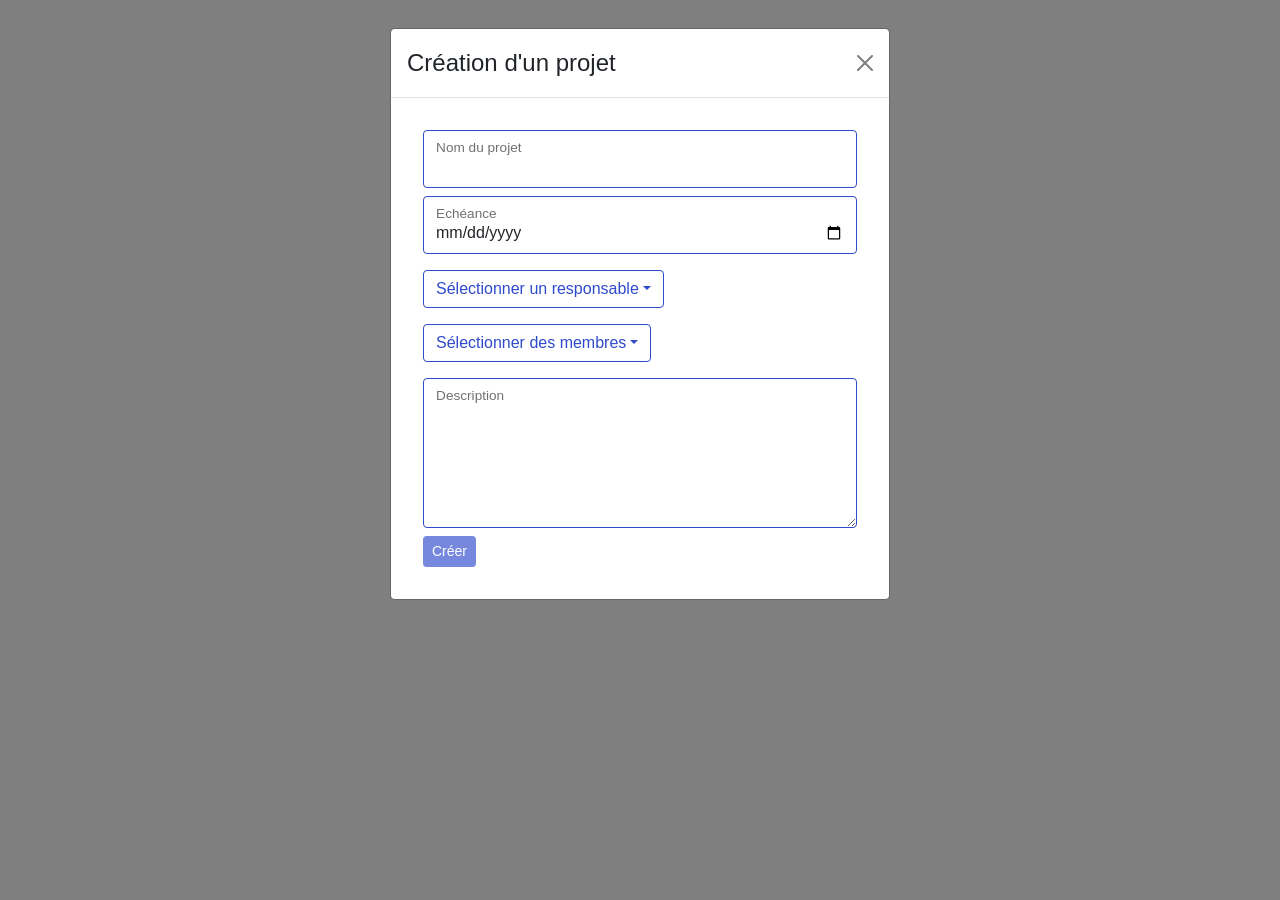
Test case: CreateProjectForm layout › should not be possible to submit if the name is not filled
The width and height of the screenshot is (1280, 900).
Check: the button with test id "createProjectForm-create-button" is disabled, box [423,536,476,567]
Type "New project" into the field with test id "createProjectForm-name" at (640, 159), box [423,130,857,188]
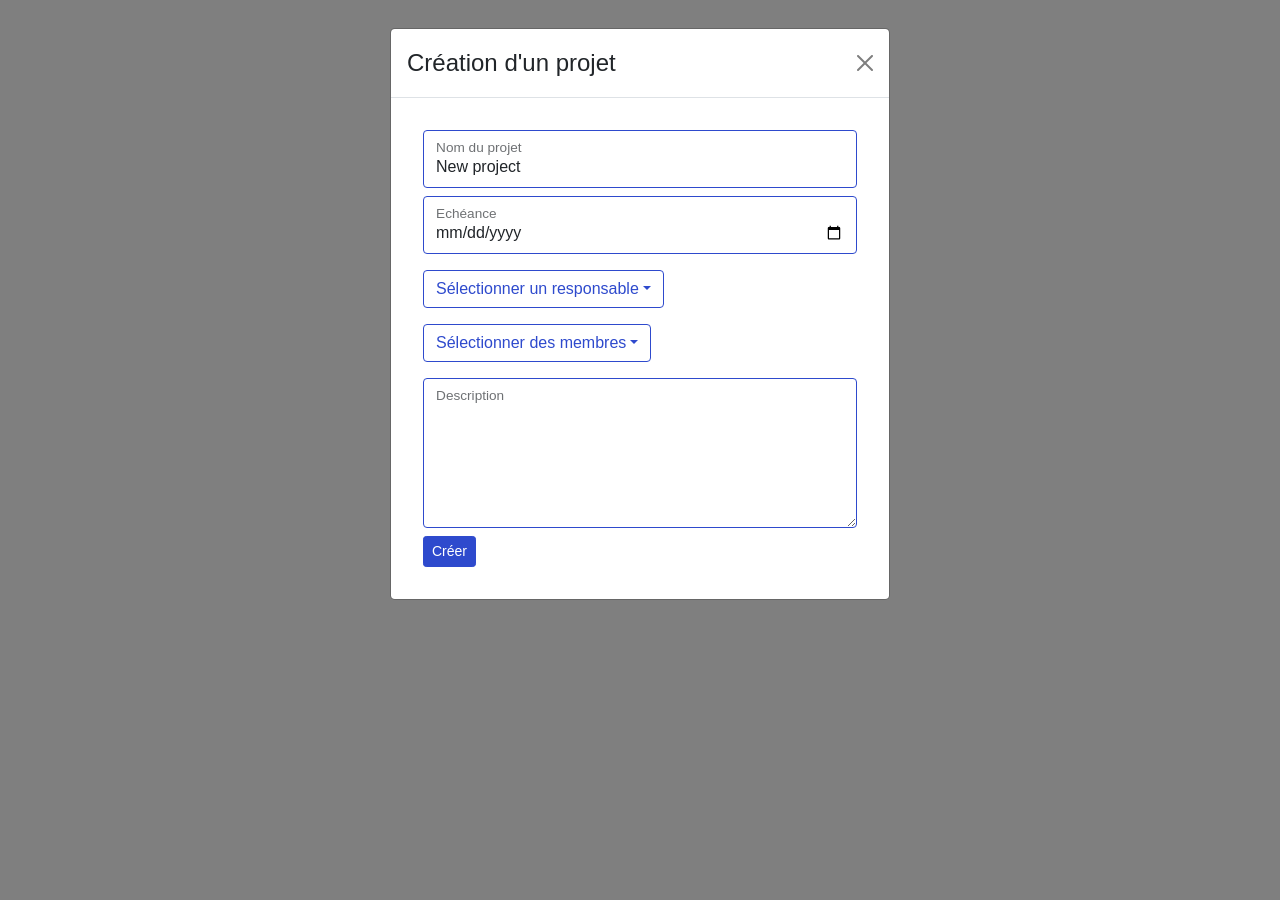
Check: the button with test id "createProjectForm-create-button" is enabled, box [423,536,476,567]
